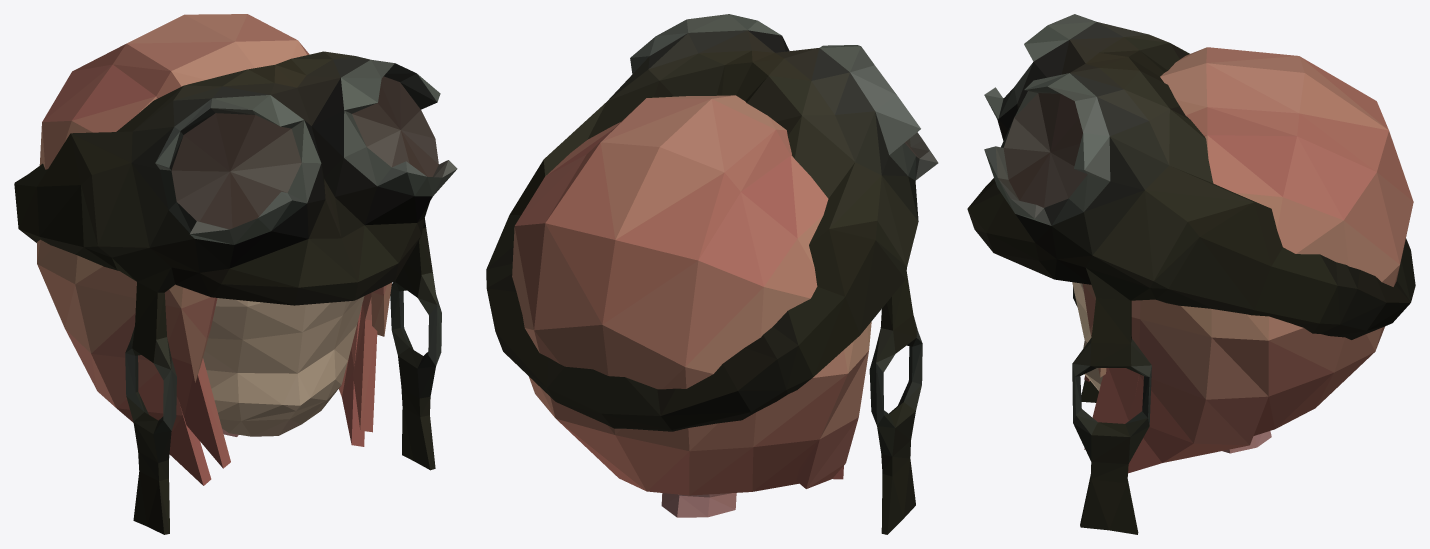
Rendered from helm_lightskin_bob_blonde_goggles.fbx.
3 renders of one model, left to right at view 1: azimuth 30°, elevation 25°; view 2: azimuth 150°, elevation 25°; view 3: azimuth 270°, elevation 25°, orthographic. The views are drawn at different scales.
Parts seen in each view (by area): view 1: helm_lightskin_bob_blonde_goggles; view 2: helm_lightskin_bob_blonde_goggles; view 3: helm_lightskin_bob_blonde_goggles.
Boxes of the visible parts, bbox=[...] form: helm_lightskin_bob_blonde_goggles: bbox=[14, 14, 457, 534]; helm_lightskin_bob_blonde_goggles: bbox=[486, 14, 938, 534]; helm_lightskin_bob_blonde_goggles: bbox=[967, 14, 1415, 534].
Bounding box in the file's own units: 1.22 × 1.45 × 1.42.
